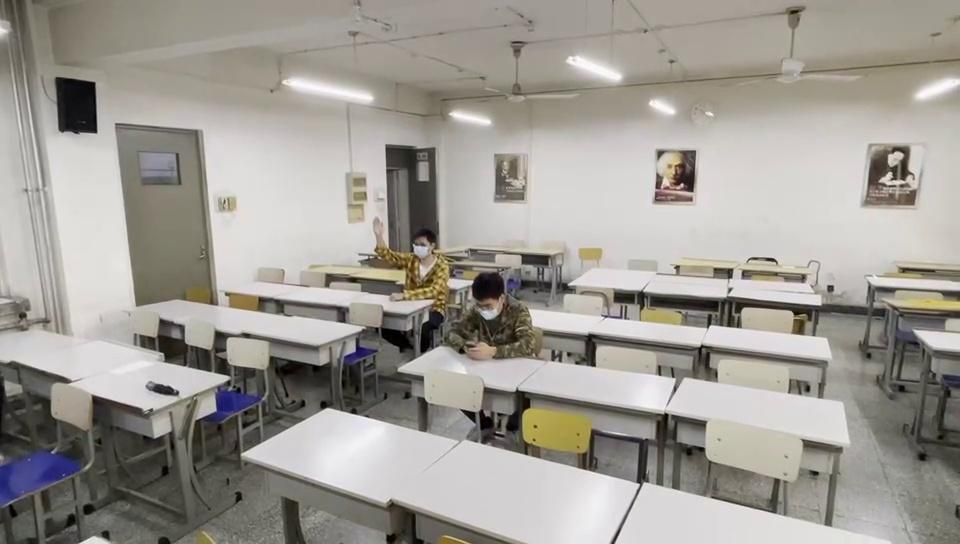phone: (448, 269, 533, 357)
study: (373, 216, 446, 299)
